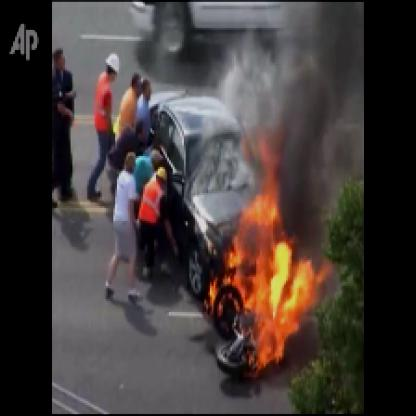Fire: (216, 132, 306, 377)
Smoke: (286, 2, 349, 225)
